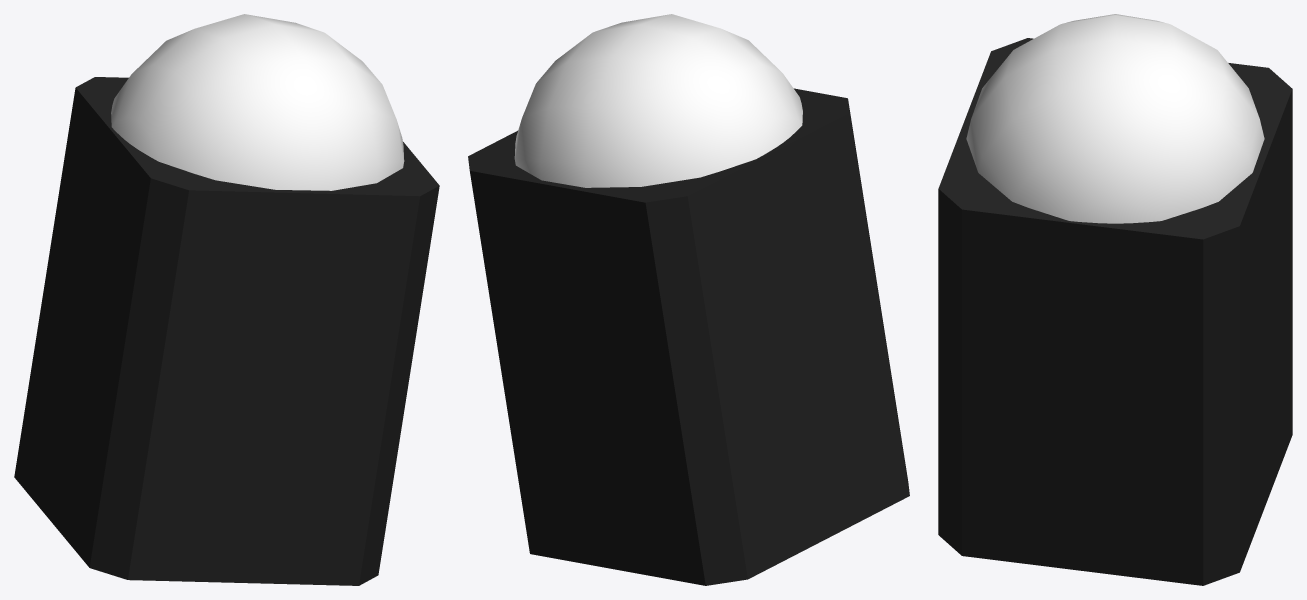
Rendered from Drill_UpperLeg.fbx.
The picture shows the model from 3 angles, left to right: view 1: azimuth 30°, elevation 25°; view 2: azimuth 150°, elevation 25°; view 3: azimuth 270°, elevation 25°; orthographic projection. The views are drawn at different scales.
Parts seen in each view (by area): view 1: Drill_UpperLeg; view 2: Drill_UpperLeg; view 3: Drill_UpperLeg.
Boxes of the visible parts, box(x1,y1,x2,y2) form: Drill_UpperLeg: box(14, 14, 439, 585); Drill_UpperLeg: box(468, 14, 909, 585); Drill_UpperLeg: box(938, 14, 1292, 585).
Bounding box in the file's own units: 20.34 × 27.32 × 17.14.
